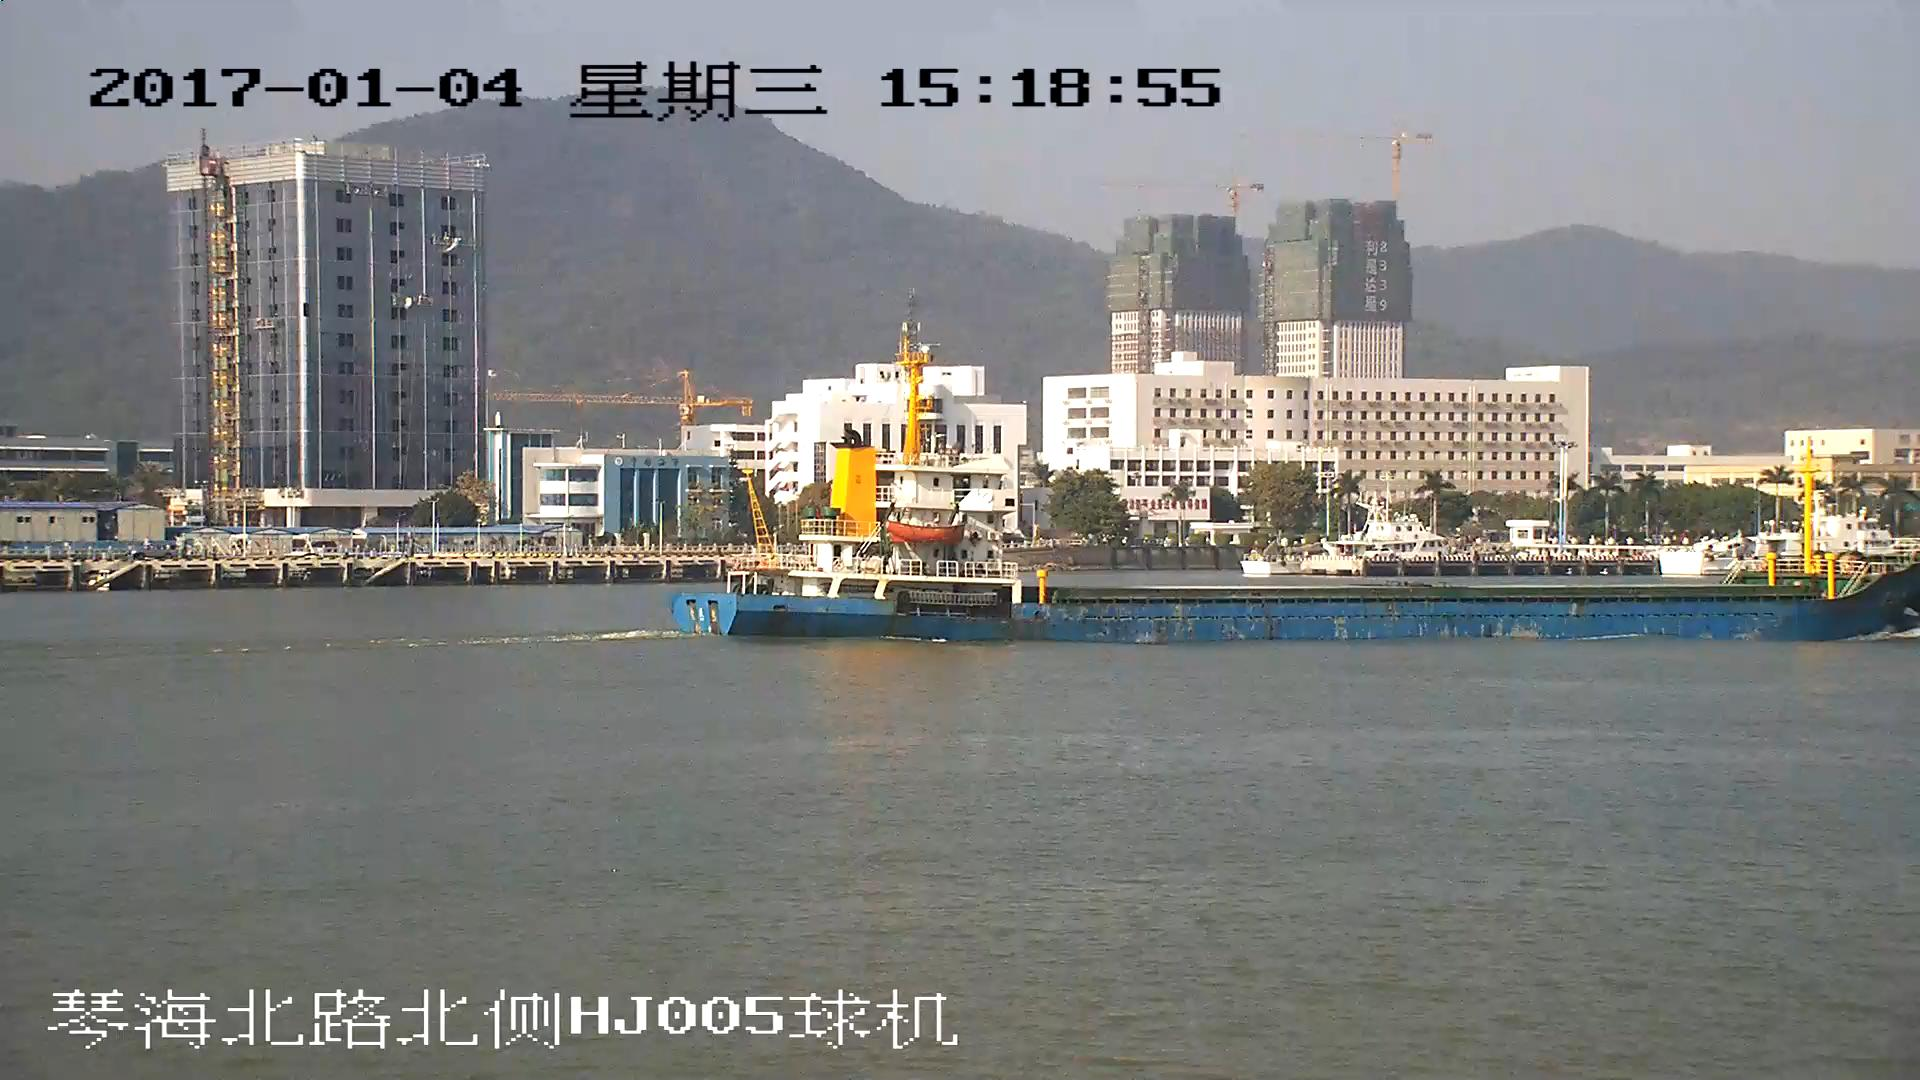general cargo ship: (667, 324, 1920, 644)
